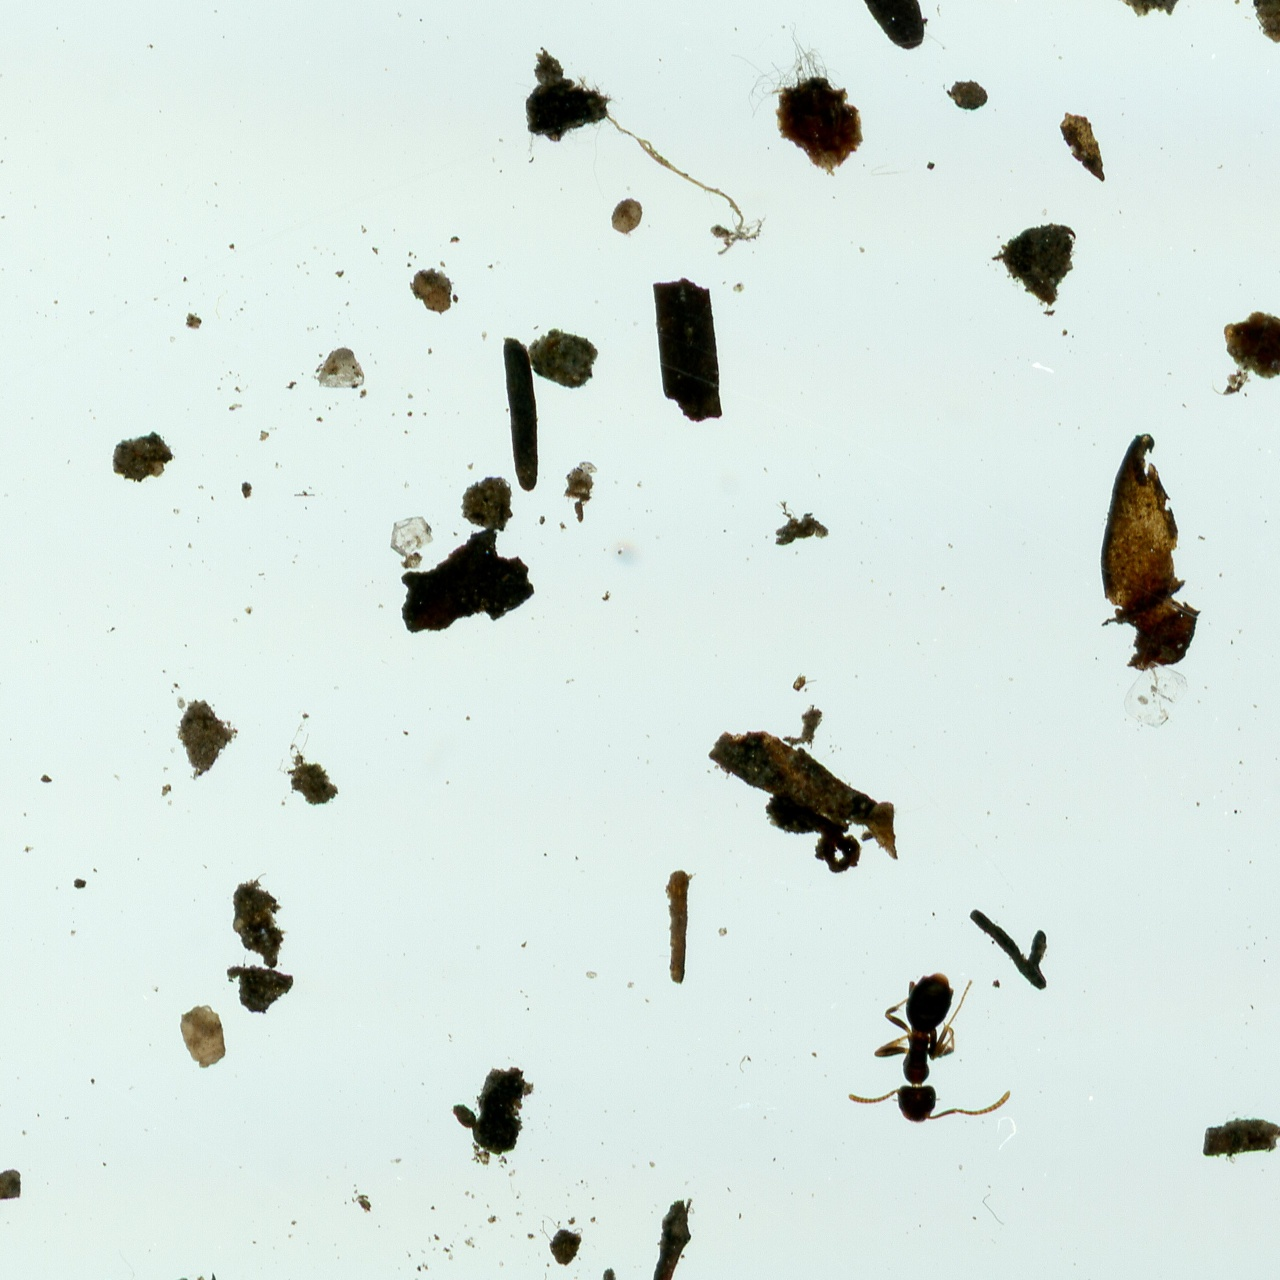arthropod: (847, 968, 1019, 1123)
